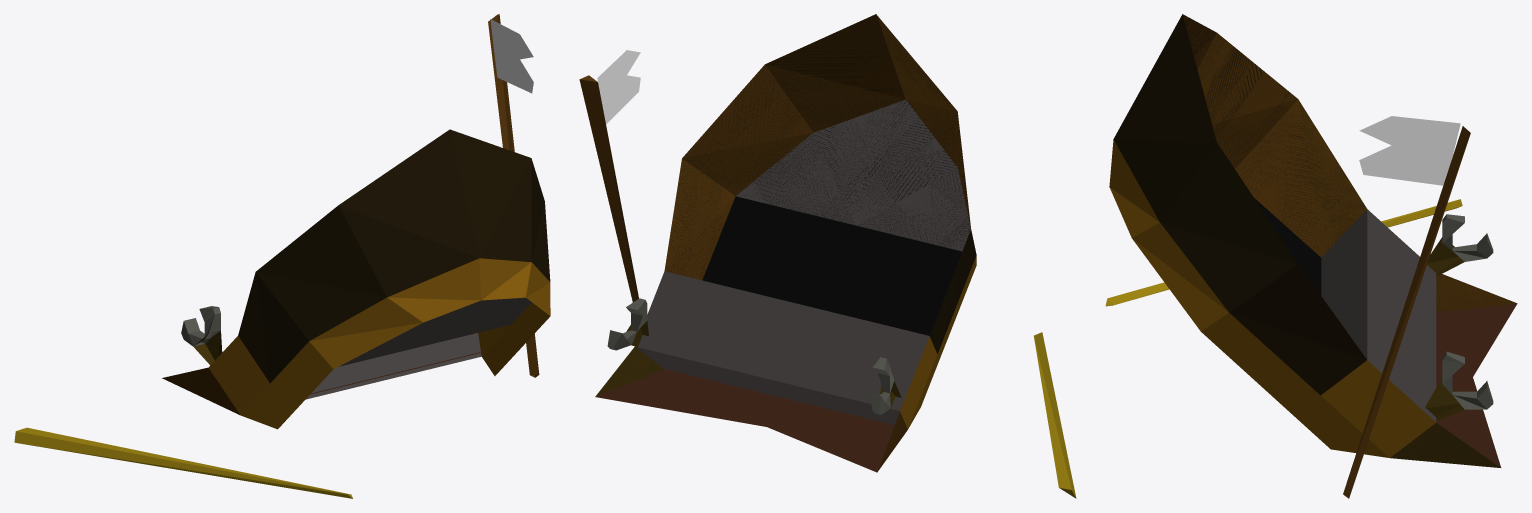
The model's file is obj_row_boat_2_0.obj.
3 renders of one model, left to right at view 1: azimuth 30°, elevation 25°; view 2: azimuth 150°, elevation 25°; view 3: azimuth 270°, elevation 25°, orthographic. The views are drawn at different scales.
Bounding box in the file's own units: 2.55 × 1.68 × 1.59.
